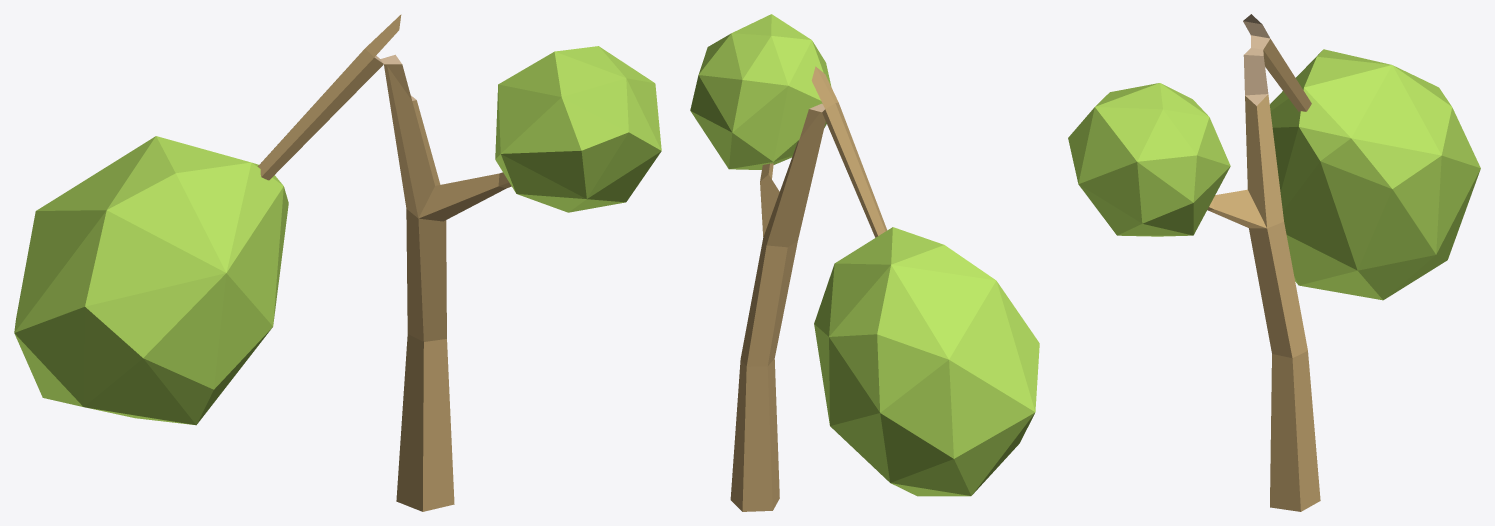
The model's file is Simple_Tree_crk_s_BT_02.fbx.
The picture shows the model from 3 angles, left to right: view 1: azimuth 30°, elevation 25°; view 2: azimuth 150°, elevation 25°; view 3: azimuth 270°, elevation 25°; orthographic projection. The views are drawn at different scales.
Parts seen in each view (by area): view 1: Simple_Tree_crk_s_BT_02; view 2: Simple_Tree_crk_s_BT_02; view 3: Simple_Tree_crk_s_BT_02.
Part boxes in pixels (bbox=[...]): Simple_Tree_crk_s_BT_02: bbox=[14, 14, 661, 511]; Simple_Tree_crk_s_BT_02: bbox=[690, 14, 1039, 511]; Simple_Tree_crk_s_BT_02: bbox=[1068, 14, 1480, 511].
Size of the model in its own units: 251 by 239 by 192.
